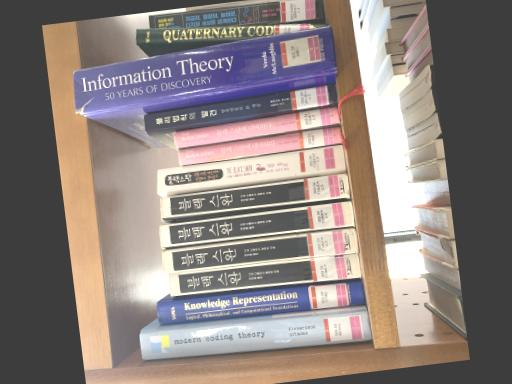book-spine: (72, 25, 334, 111), (140, 308, 371, 359), (155, 143, 345, 194), (156, 279, 365, 325), (144, 82, 338, 131), (160, 170, 349, 220), (158, 199, 354, 247), (161, 227, 358, 272), (169, 251, 361, 295), (174, 105, 340, 147), (178, 124, 342, 164), (147, 0, 324, 26), (135, 21, 329, 42)
